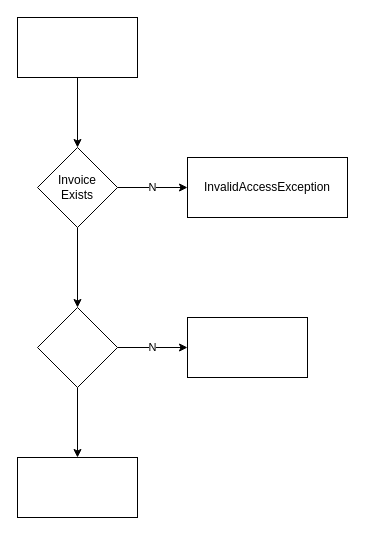
Image size: 365x535. Some labels were removed from this diagram. Each missing label, with the centre of its shape:
"Invoice" belongs at [77,47].
"is trasury" belongs at [77,347].
